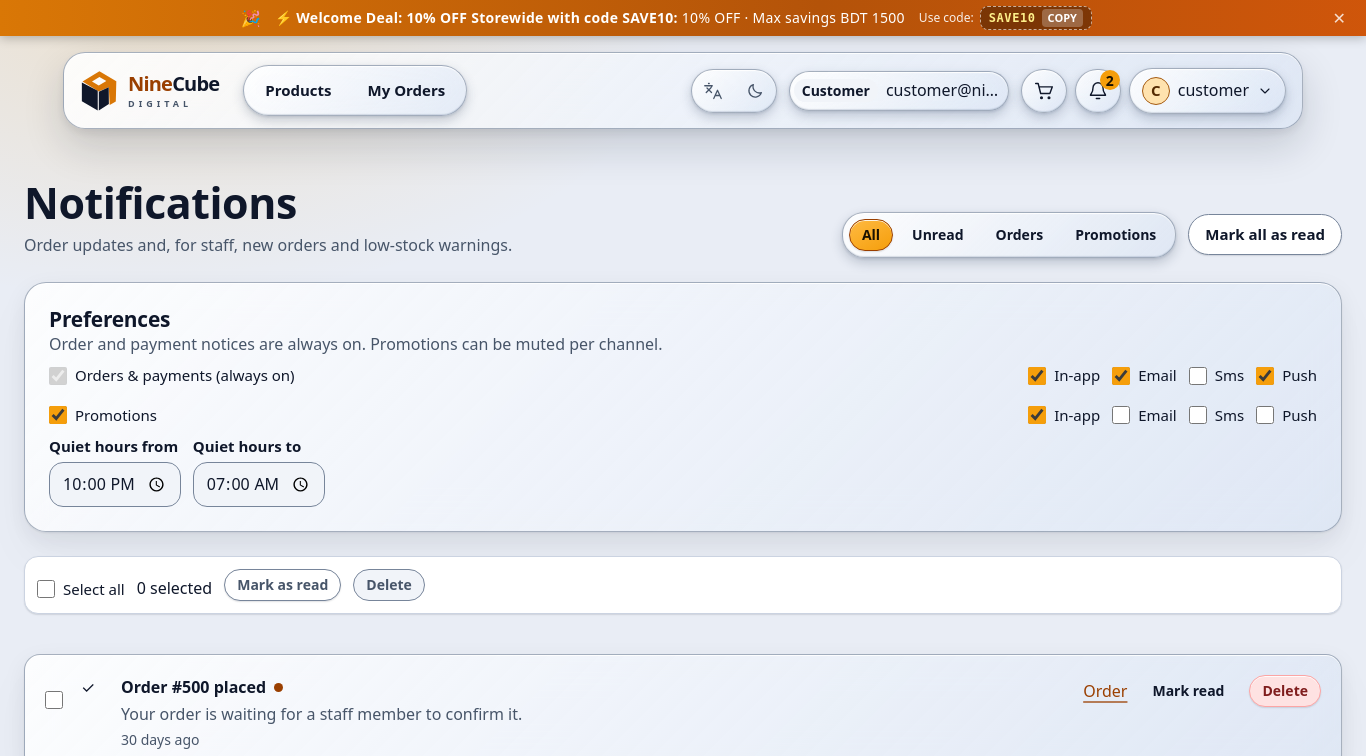
Scenario: Notifications page › filters to unread and says so when nothing is left
expect the checkbox named "Select Order #500 placed" is shown: met, box [45,679,63,721]
Click the button "Unread". click: (938, 234)
box: [899,218,977,250]
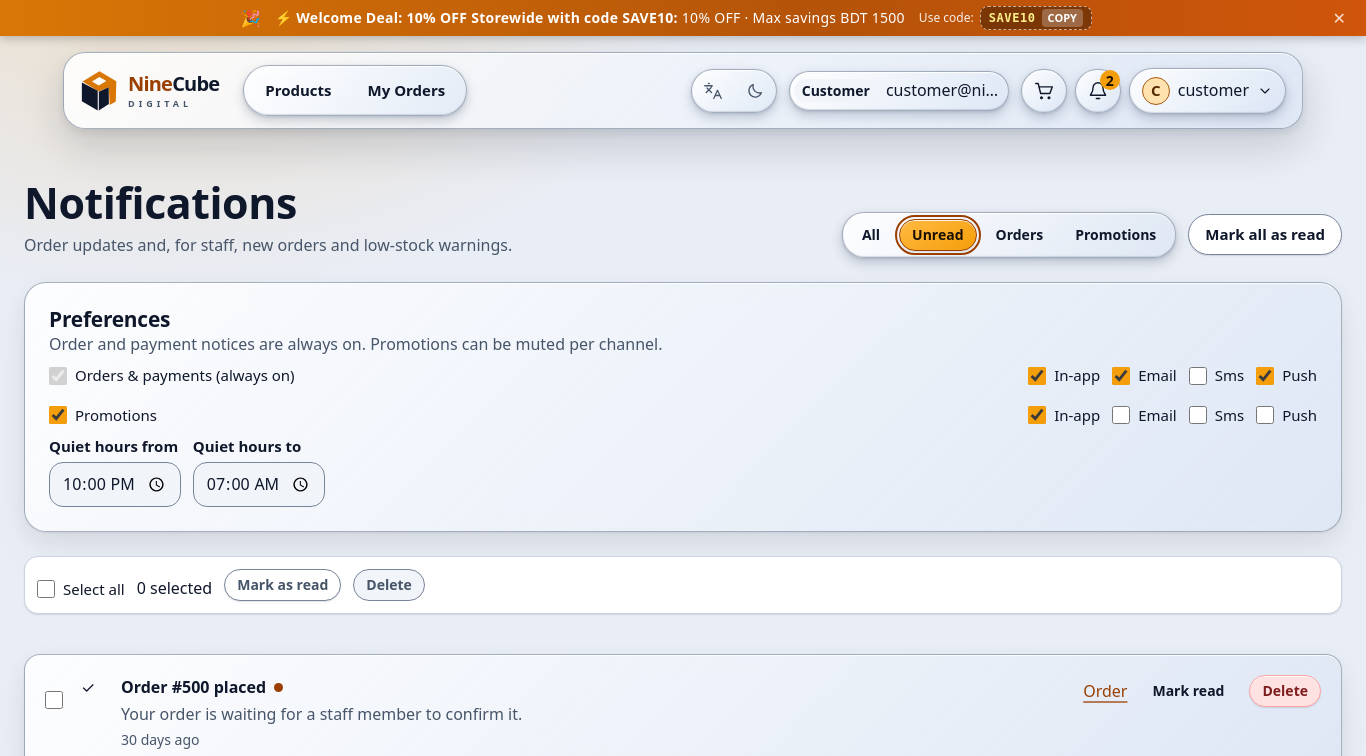
expect the button "Unread" is pressed: met, box [899,218,977,250]
Click the button "Mark all as read". click: (1265, 235)
box: [1188,214,1342,255]
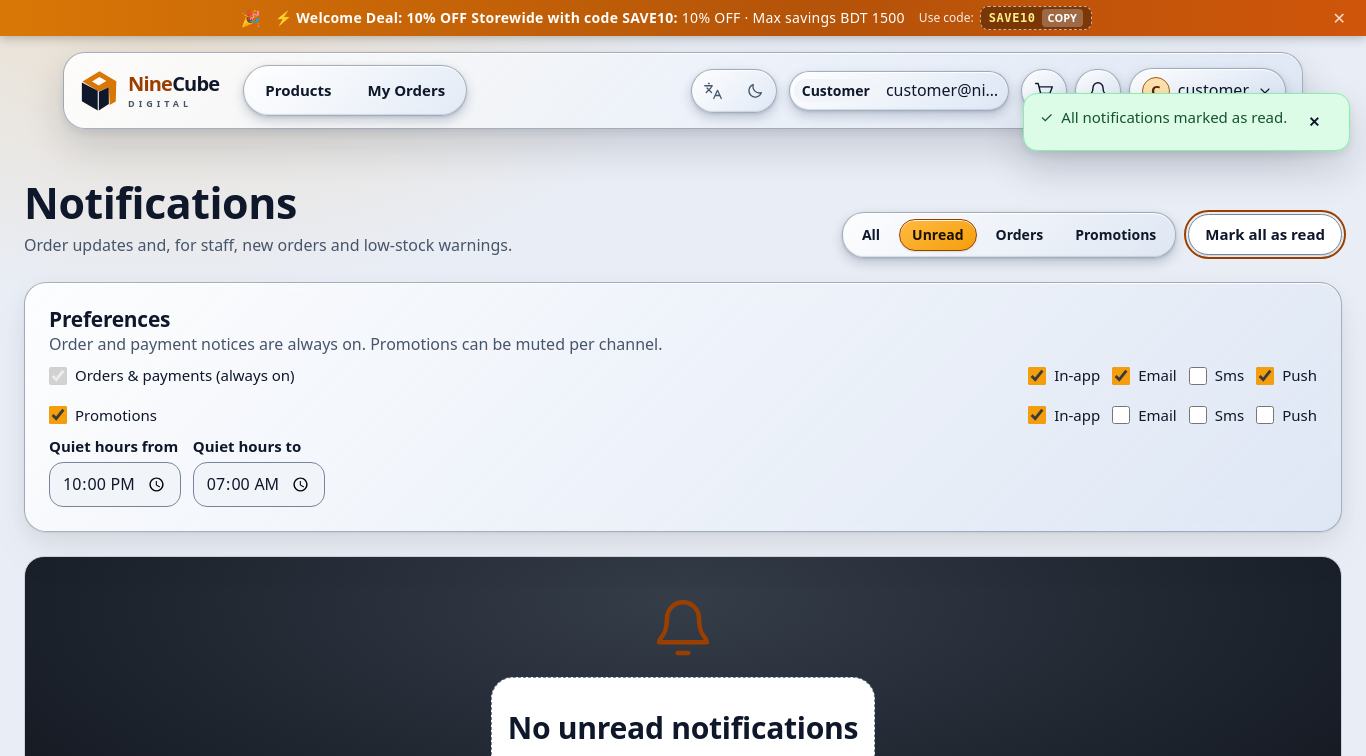
expect the heading "No unread notifications" is shown: met, box [508,710,858,746]
